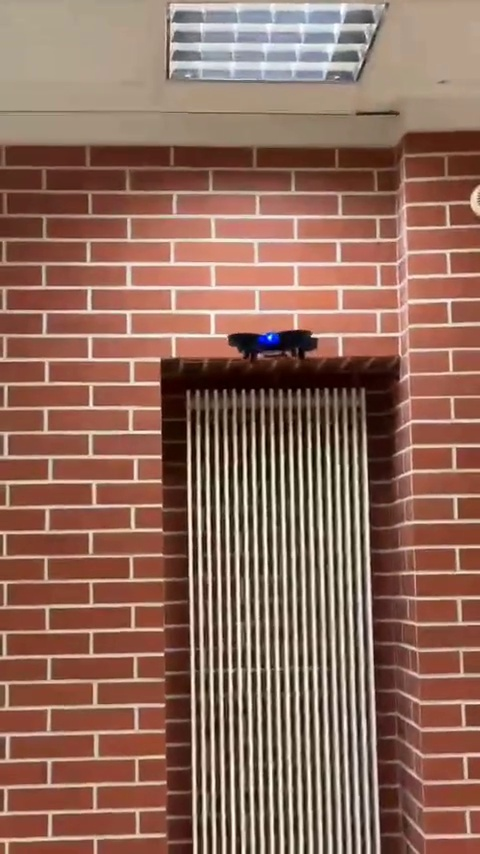drone: (228, 330, 318, 361)
